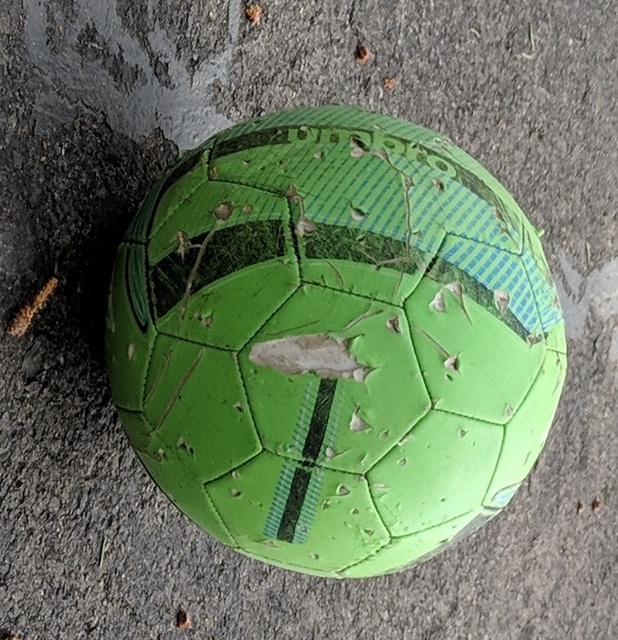ball: (103, 105, 571, 582)
